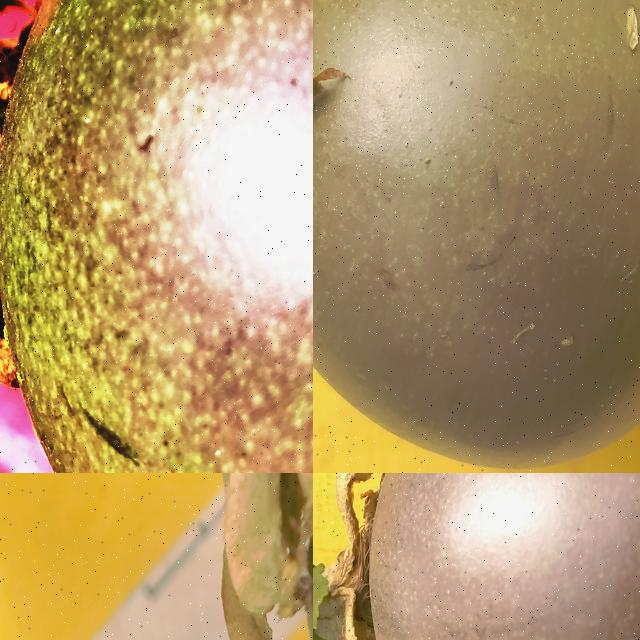Estado-4: (313, 473, 640, 640), (222, 473, 313, 640)
